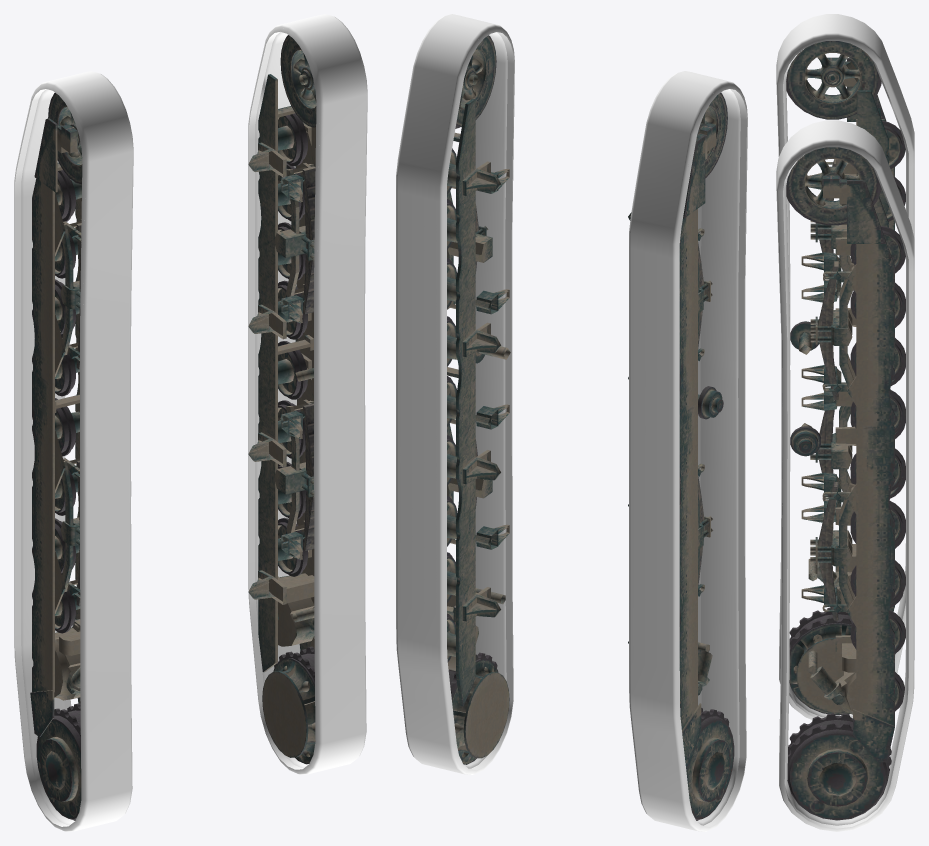
The model's file is Chassis.glb.
The picture shows the model from 3 angles, left to right: view 1: azimuth 30°, elevation 25°; view 2: azimuth 150°, elevation 25°; view 3: azimuth 270°, elevation 25°; orthographic projection. The views are drawn at different scales.
Parts seen in each view (by area): view 1: set_0_group_0, set_1_group_0, set_3_group_0, set_2_group_0; view 2: set_0_group_0, set_1_group_0, set_3_group_0, set_2_group_0; view 3: set_3_group_0, set_2_group_0, set_1_group_0, set_0_group_0.
Part boxes in pixels (x1=…): set_0_group_0: x1=14, y1=71, x2=133, y2=831; set_1_group_0: x1=248, y1=14, x2=367, y2=774; set_3_group_0: x1=248, y1=35, x2=316, y2=764; set_2_group_0: x1=30, y1=93, x2=82, y2=820; set_0_group_0: x1=629, y1=71, x2=747, y2=831; set_1_group_0: x1=396, y1=14, x2=514, y2=774; set_3_group_0: x1=447, y1=35, x2=510, y2=764; set_2_group_0: x1=628, y1=92, x2=734, y2=820; set_3_group_0: x1=786, y1=147, x2=905, y2=820; set_2_group_0: x1=786, y1=41, x2=905, y2=715; set_1_group_0: x1=776, y1=120, x2=914, y2=831; set_0_group_0: x1=776, y1=14, x2=914, y2=719.
Bounding box in the file's own units: 2.06 × 5.08 × 0.9182.
Materials: 4 (2 with a texture image).
